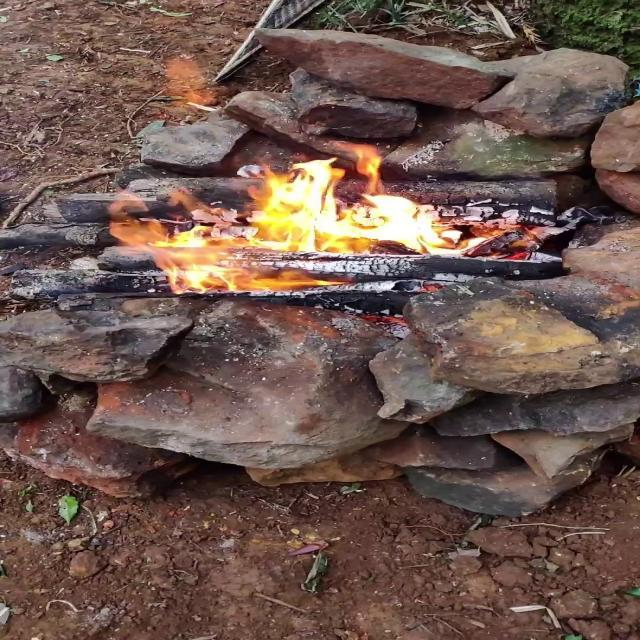Fire: (97, 146, 488, 304)
